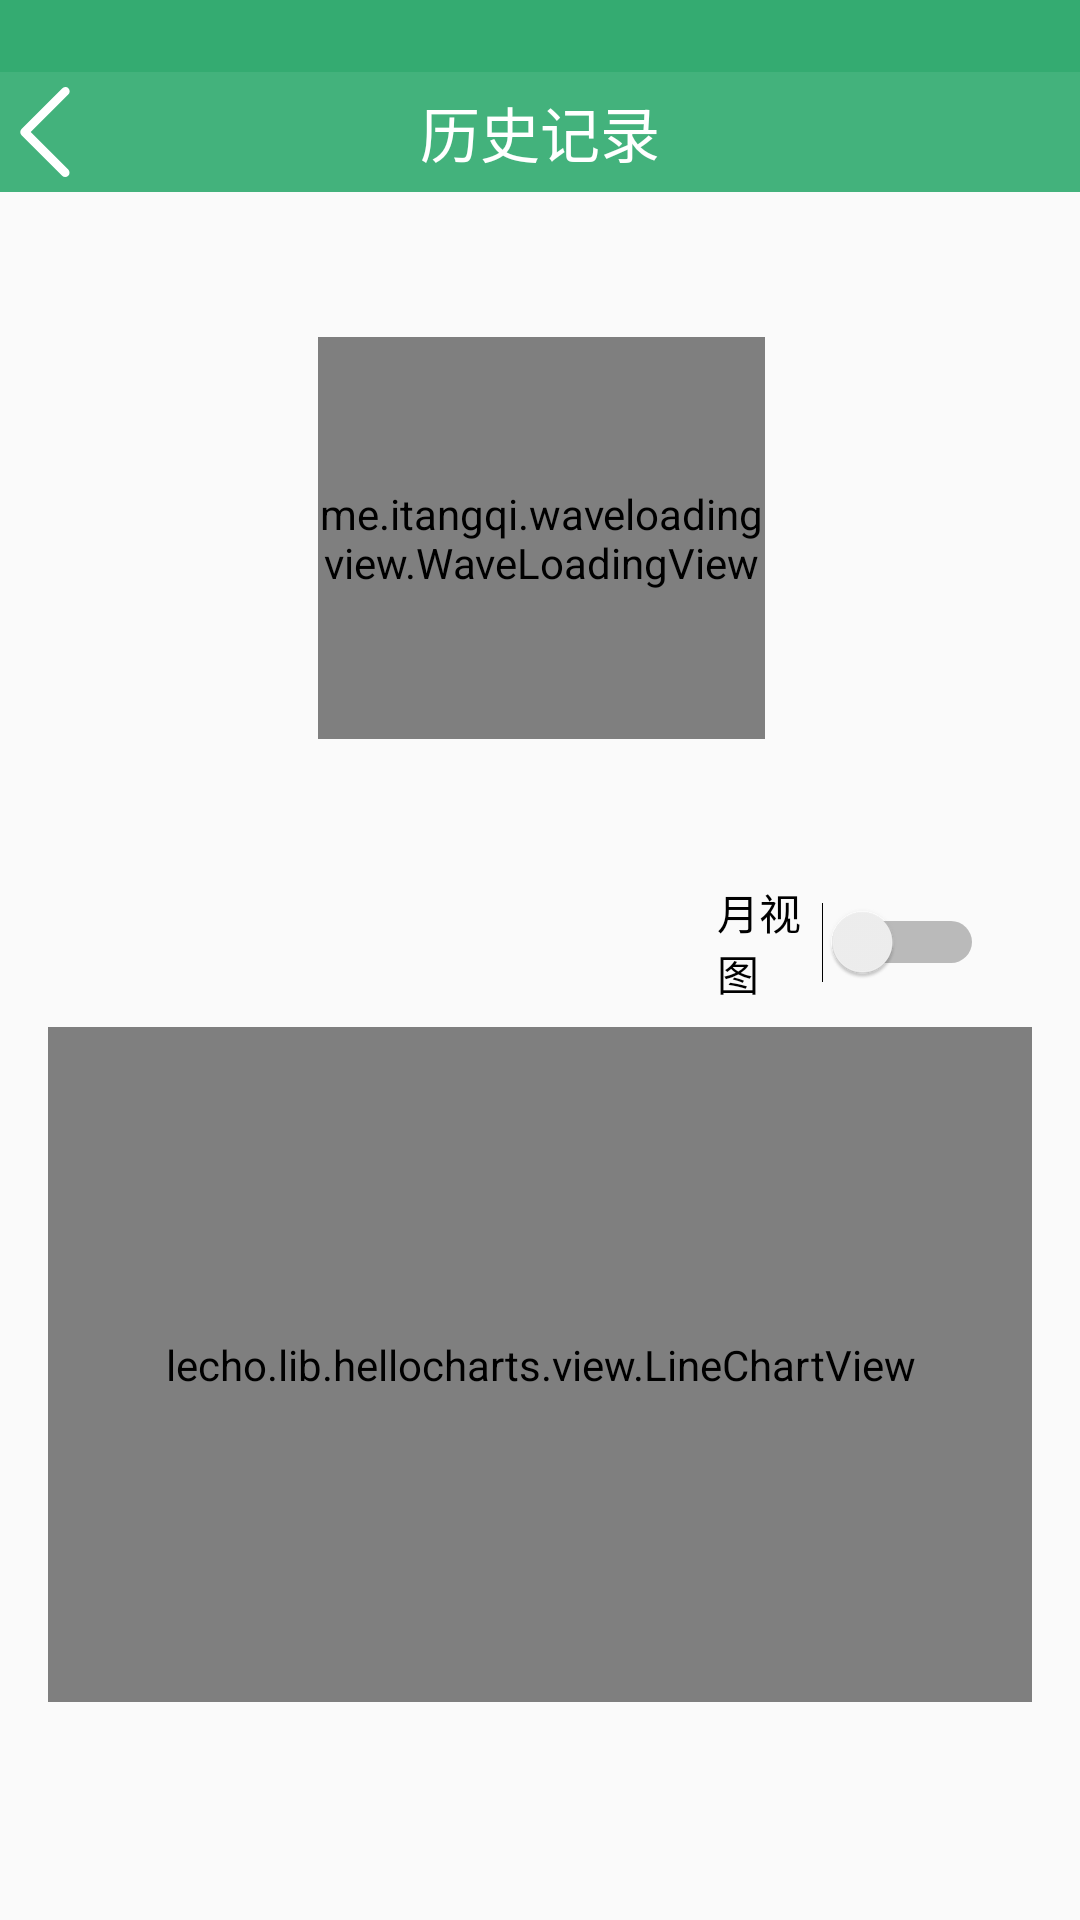

Screen size 1080w x 1920h. Icon name, then its center in pixels as point (x, y):
backbutton: point (45, 132)
